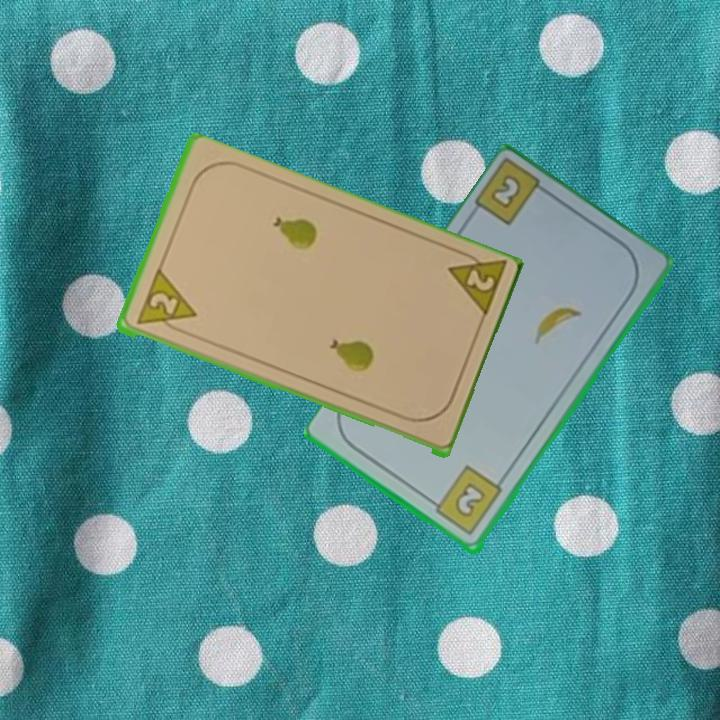2b: (425, 463, 506, 539), (471, 158, 556, 229)
2p: (443, 245, 509, 323), (132, 267, 199, 336)
